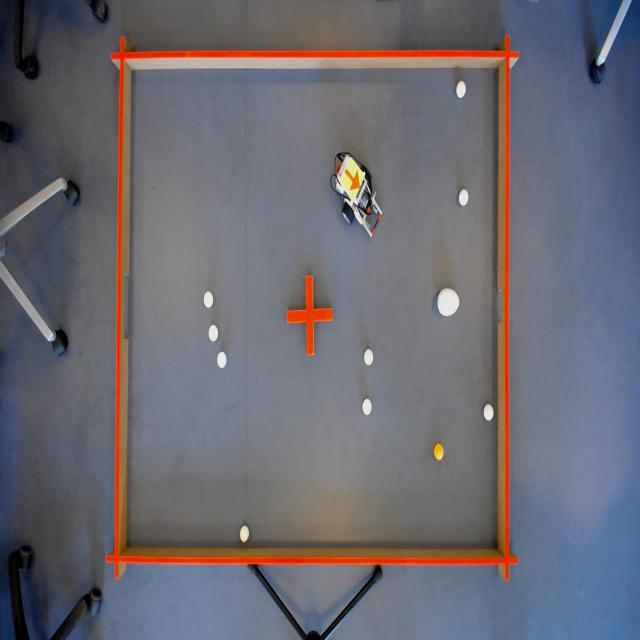cross: (286, 274, 334, 357)
egg: (434, 285, 460, 322)
orange_ball: (433, 439, 445, 463)
robot: (339, 156, 366, 204)
white_ball: (237, 522, 251, 546), (362, 346, 376, 368), (482, 400, 494, 424), (360, 396, 373, 418), (458, 186, 471, 208), (454, 78, 467, 100), (207, 321, 218, 346), (202, 289, 215, 310), (216, 350, 228, 371)
